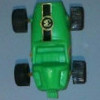verde_norte: (13, 2, 86, 97)
